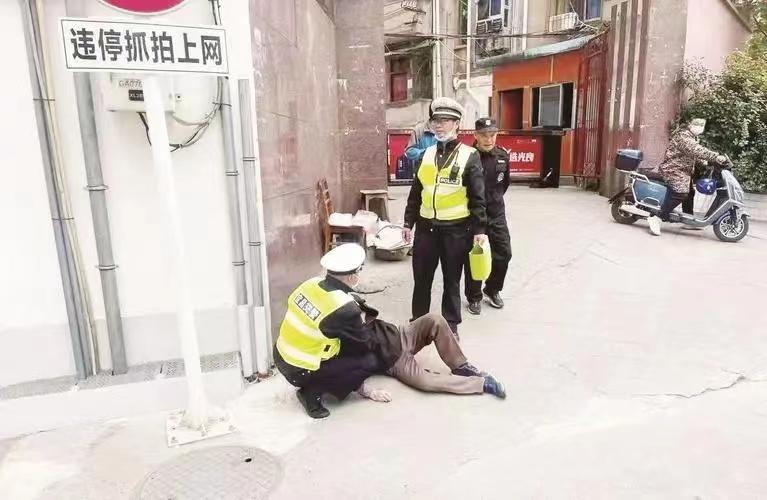bending: (271, 241, 382, 420)
down: (343, 290, 508, 405)
up: (401, 92, 481, 348), (464, 111, 516, 315)
